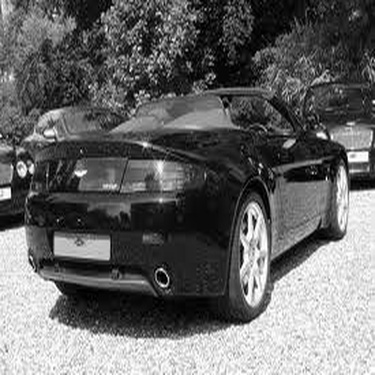car: (26, 87, 356, 329), (296, 73, 372, 189), (17, 104, 137, 171), (1, 136, 49, 223)
